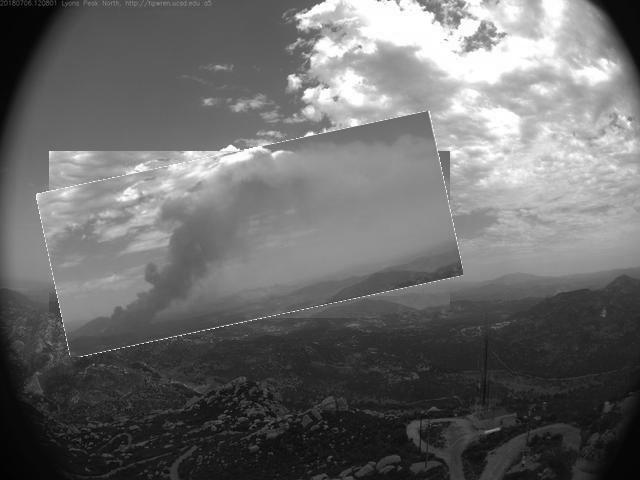smoke: (44, 132, 459, 340)
